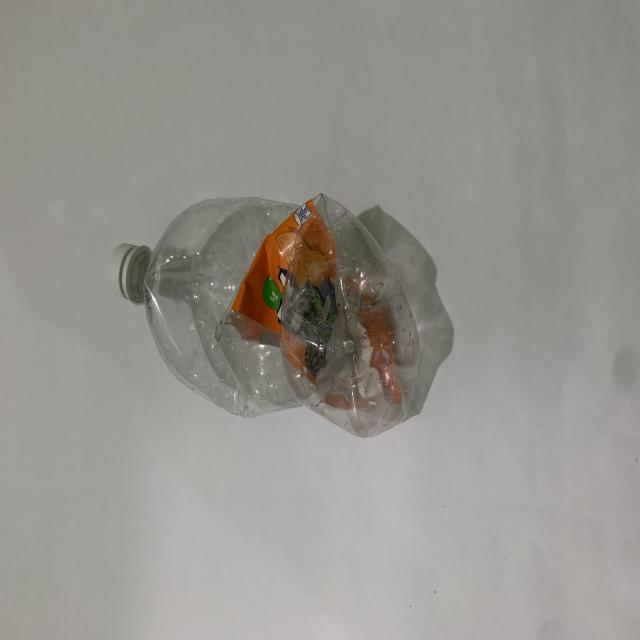bottle: (94, 178, 428, 450)
